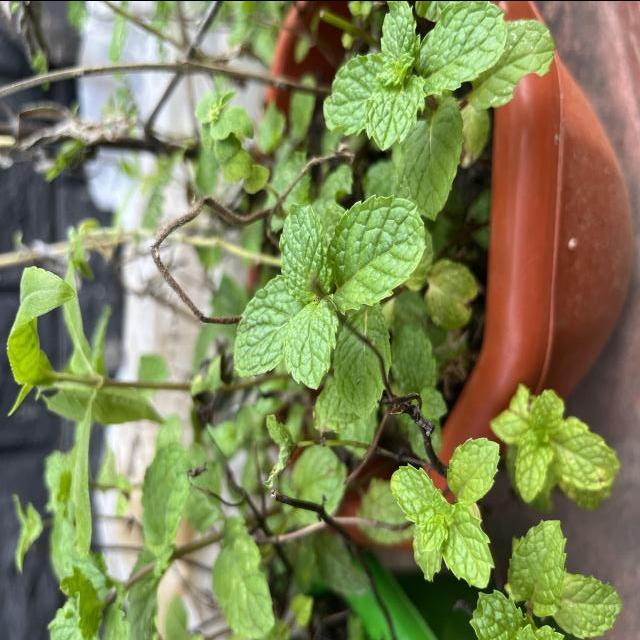Mentha spicata: (329, 192, 427, 318), (416, 0, 509, 97), (232, 274, 290, 379), (277, 202, 335, 302), (284, 296, 339, 391), (440, 510, 496, 590), (446, 435, 502, 505), (389, 462, 435, 522)
